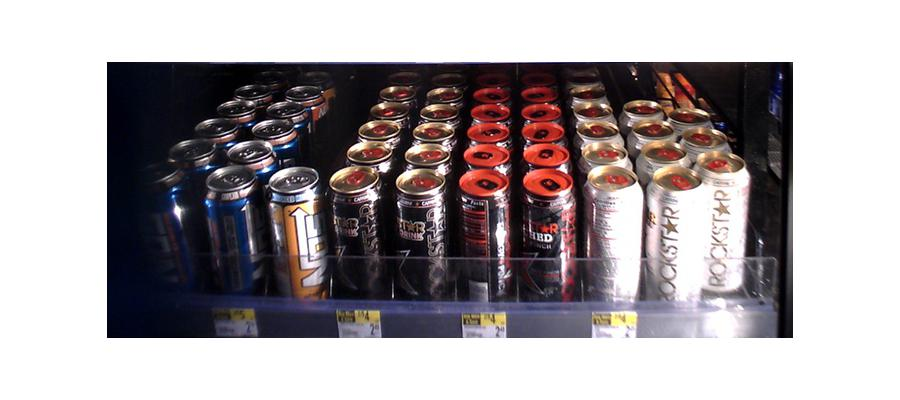bottle: (143, 149, 204, 300), (651, 168, 713, 313), (517, 163, 576, 304), (588, 168, 642, 317), (267, 170, 327, 303), (204, 167, 262, 293), (392, 170, 448, 300), (457, 166, 508, 307), (331, 166, 384, 297)
